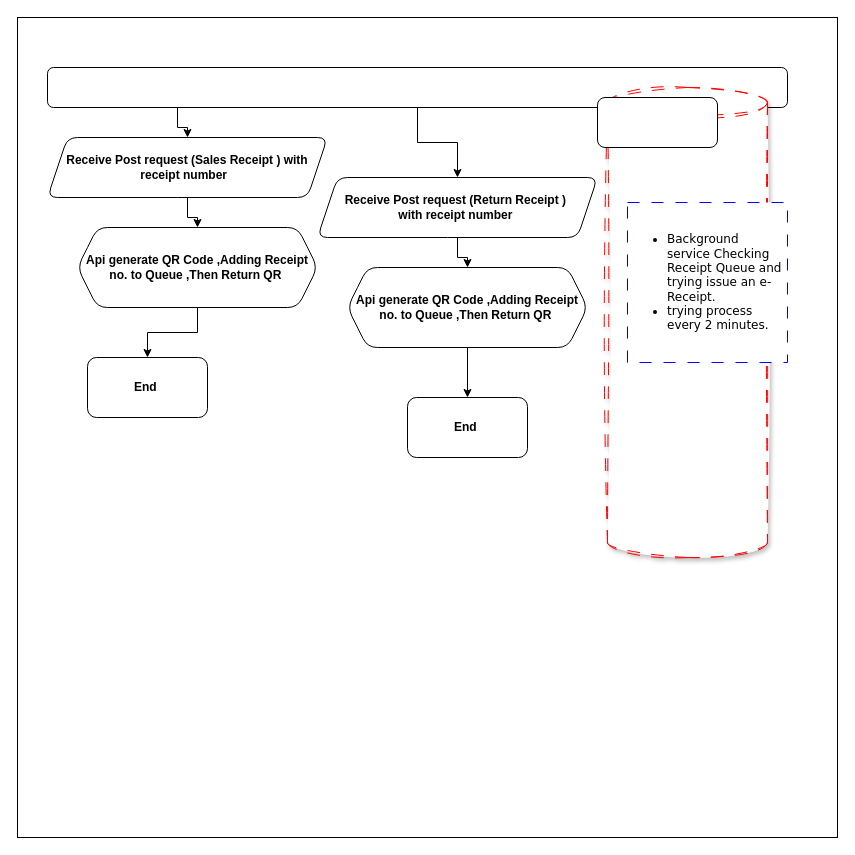
Image size: 855x855. Some labels were removed from this diagram. Here are the shapes that lost their labels. From the top down, the centre of each, then its label:
pixel 417 87: smartup e-Receipt Api
pixel 657 122: Hangfire Background Server
